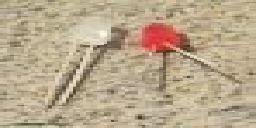LED: (136, 19, 255, 93), (47, 18, 111, 110)
